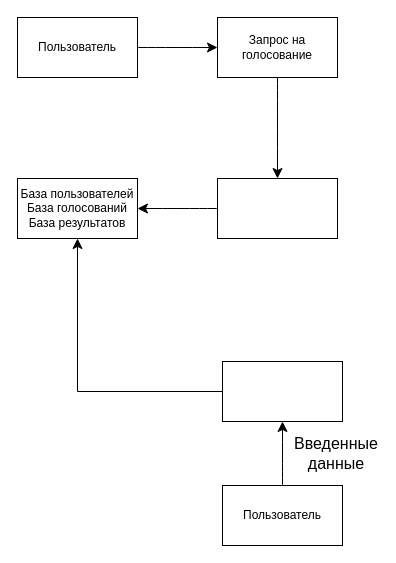
Image size: 396x563. Some labels were removed from this diagram. The shapes that lost their labels are listed below. From the top down, each one's centre as x and y in pixels, then its label:
At pixel 277 208: "Система голосования".
At pixel 282 391: "Результаты голосования".
